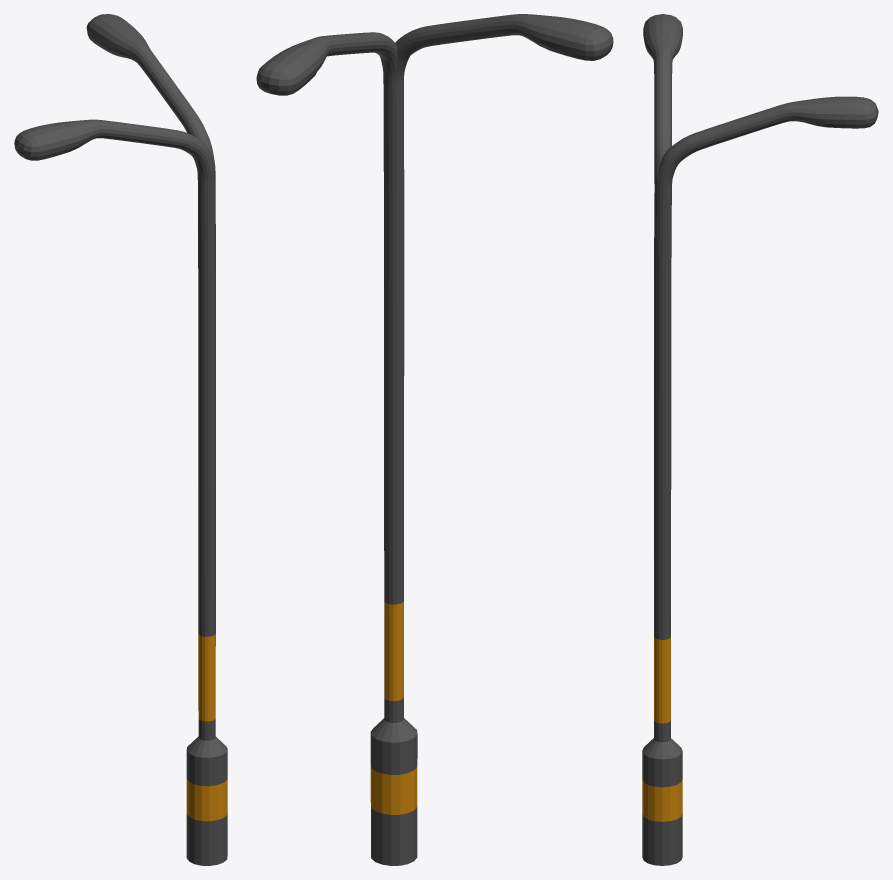
Rendered from road_lamp_2.fbx.
3 views of the same model, side by side, from view 1: azimuth 30°, elevation 25°; view 2: azimuth 150°, elevation 25°; view 3: azimuth 270°, elevation 25° (orthographic). The views are drawn at different scales.
Parts seen in each view (by area): view 1: road_lamp_2; view 2: road_lamp_2; view 3: road_lamp_2.
Boxes of the visible parts, x1,y1,x2,y2 form: road_lamp_2: [14, 14, 227, 865]; road_lamp_2: [256, 14, 613, 865]; road_lamp_2: [642, 14, 878, 865].
Bounding box in the file's own units: 2.88 × 2.89 × 10.23.
